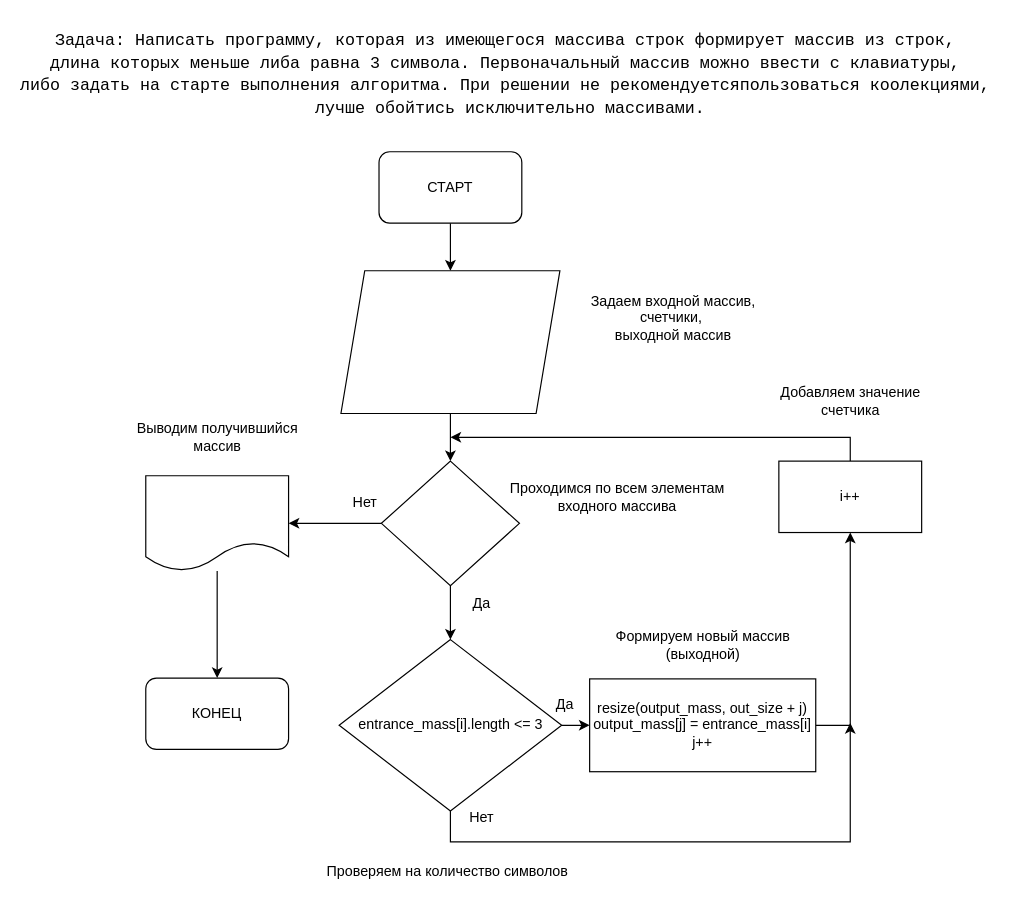
Image size: 1020x909. Some labels were removed from this diagram. The shapes that lost their labels are listed below. From the top down, each one's centre as x and y in pixels, then its label:
At point (450, 342): "entrance_mass[ent_size] i = 0 j = 0 out_size = 1 output_mass[out_size]".
At point (217, 523): "output_mass".
At point (449, 523): "i < ent_size".
